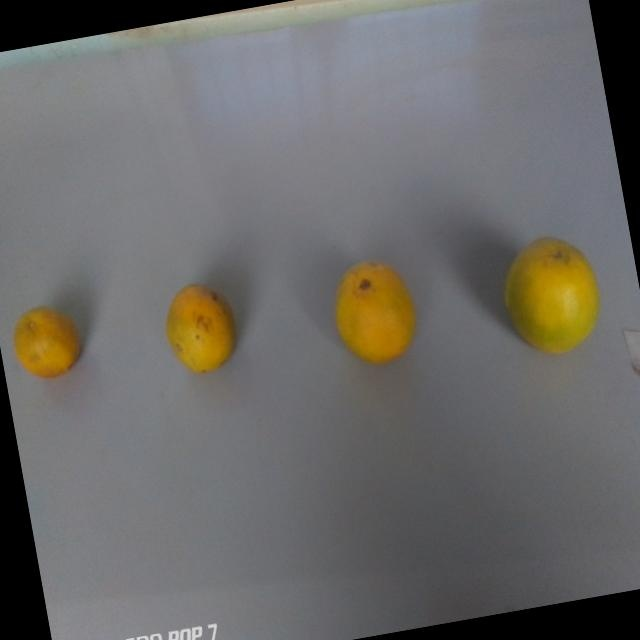agrume: (488, 219, 612, 372), (322, 251, 426, 371), (146, 264, 246, 384), (6, 295, 78, 380)
